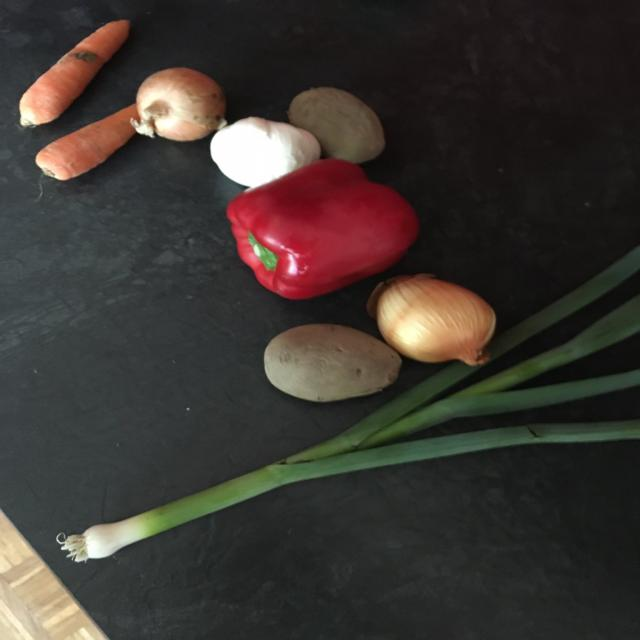Carrot: (12, 16, 136, 133), (37, 104, 144, 184)
Garlic bulb: (212, 113, 332, 196)
Onion: (368, 272, 506, 368), (140, 64, 232, 148)
Potato: (267, 318, 403, 404), (286, 84, 395, 168)
